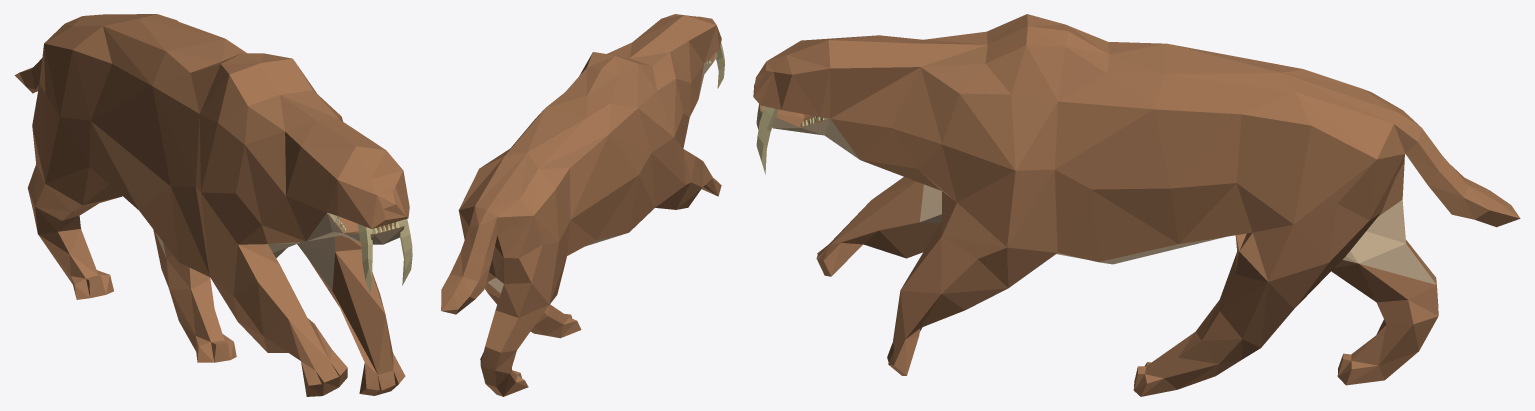
The model's file is smilodon.glb.
3 views of the same model, side by side, from view 1: azimuth 30°, elevation 25°; view 2: azimuth 150°, elevation 25°; view 3: azimuth 270°, elevation 25° (orthographic). The views are drawn at different scales.
Parts seen in each view (by area): view 1: Body, Teeth; view 2: Body, Teeth; view 3: Body, Teeth.
Part boxes in pixels (bbox=[...]): Body: bbox=[14, 14, 409, 396]; Teeth: bbox=[327, 213, 412, 293]; Body: bbox=[441, 14, 721, 396]; Teeth: bbox=[704, 42, 724, 88]; Body: bbox=[753, 14, 1520, 396]; Teeth: bbox=[756, 104, 828, 174].
Size of the model in its own units: 0.6205 by 1.31 by 2.54.
